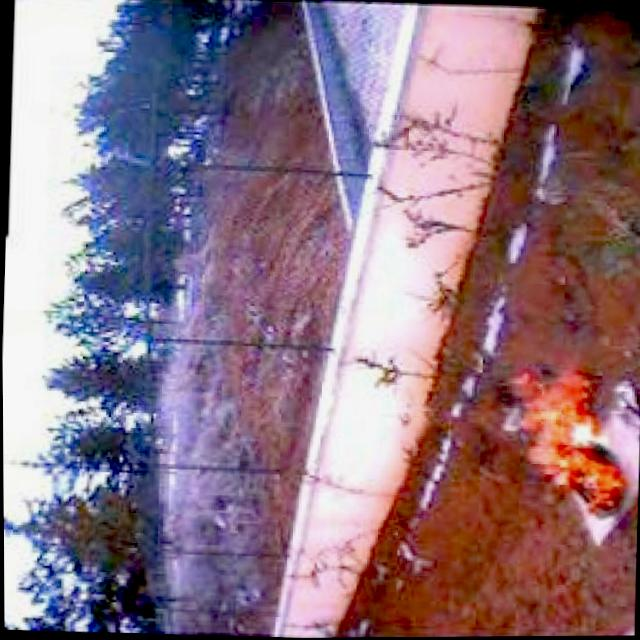helmet: (505, 369, 627, 521)
